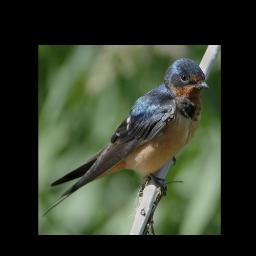Swallow: (40, 57, 211, 219)
